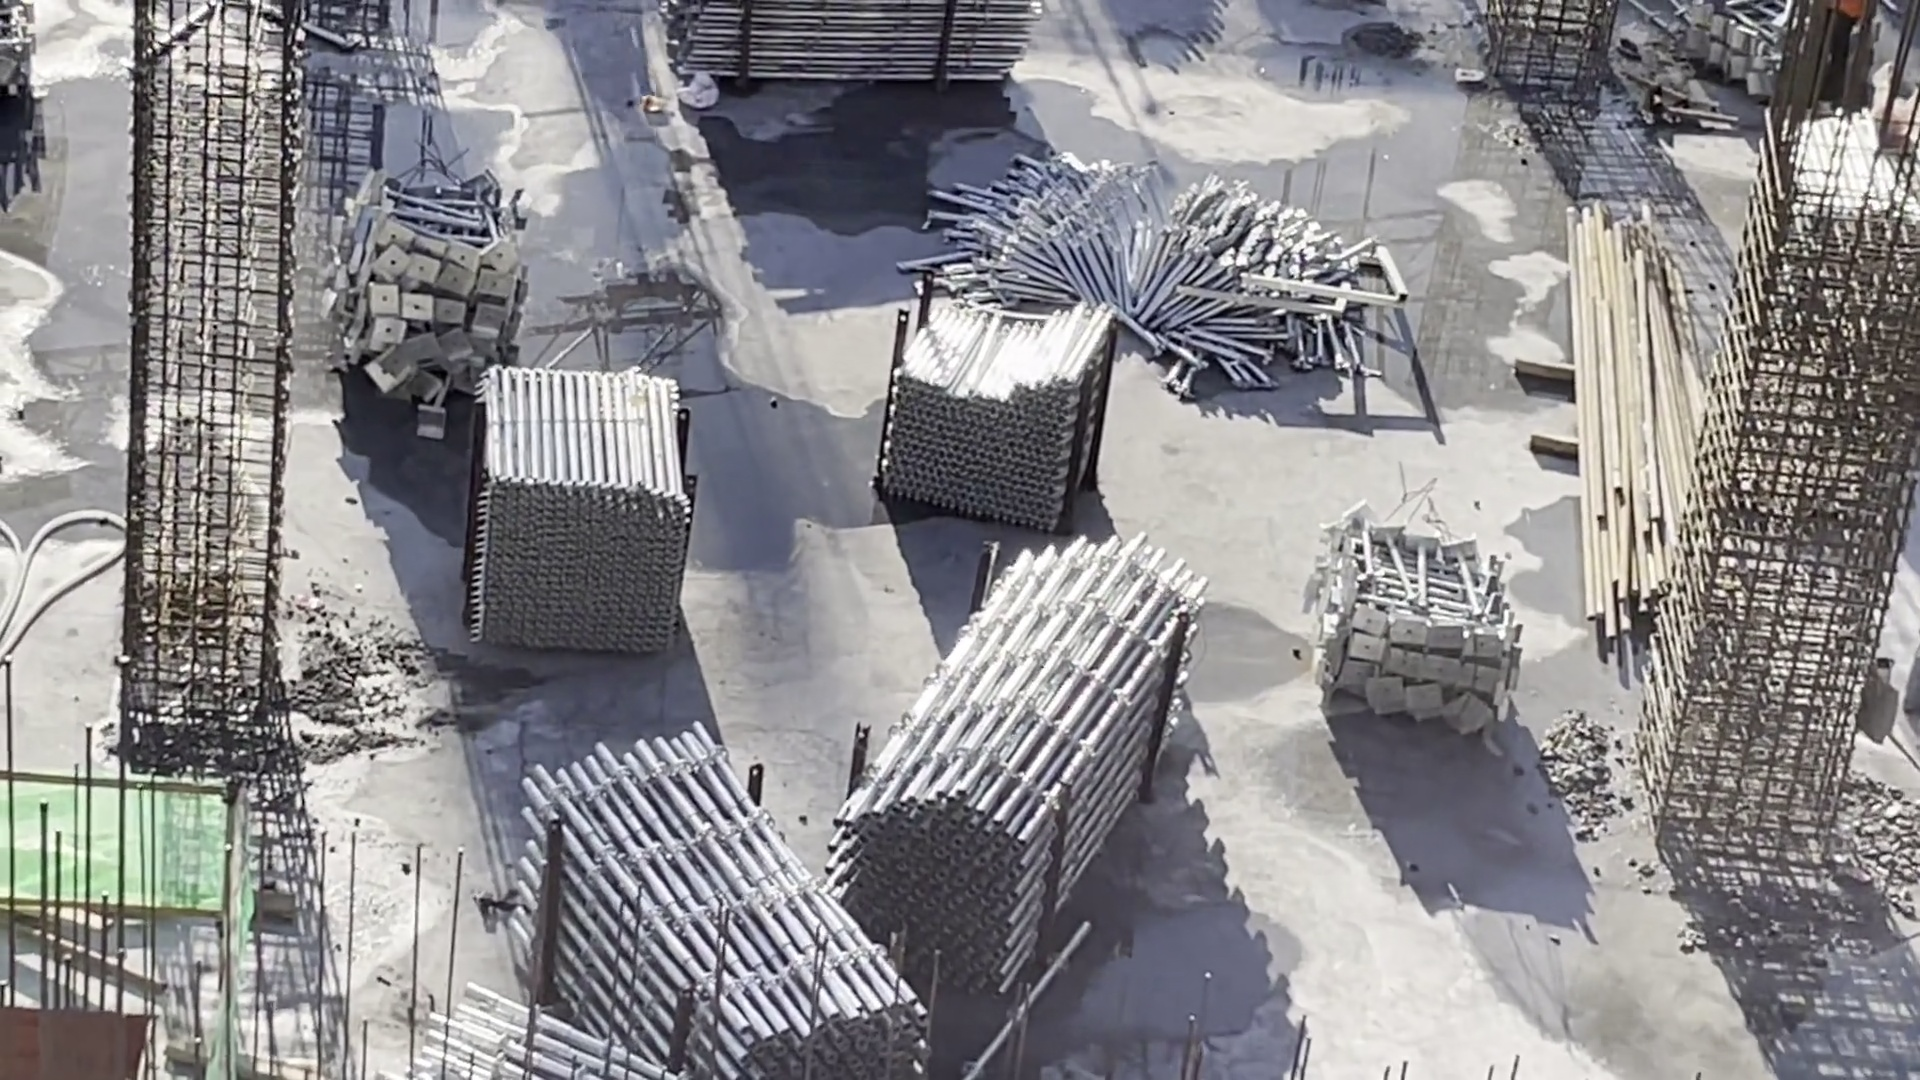scaffold: (862, 535, 1180, 965), (531, 733, 913, 1080), (964, 146, 1353, 393), (477, 347, 702, 647), (342, 156, 549, 400), (877, 289, 1097, 509), (1321, 505, 1516, 750), (659, 1, 1031, 95), (426, 988, 632, 1080), (1704, 1, 1807, 88)
